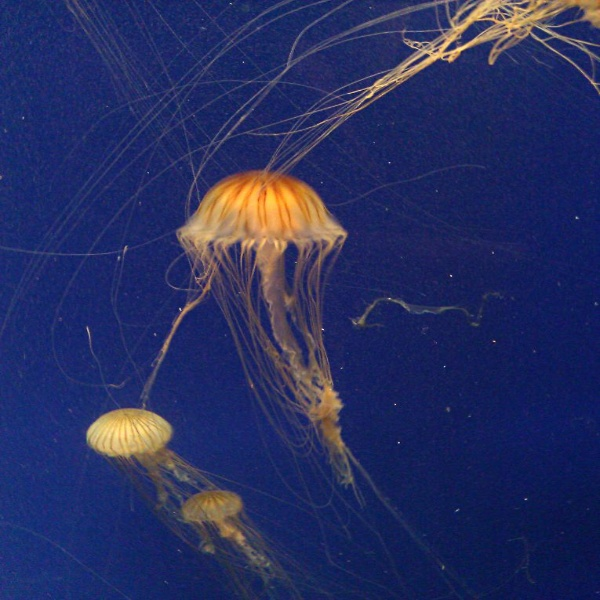Jellyfish: (172, 169, 482, 600), (82, 407, 309, 598), (176, 490, 316, 600)
